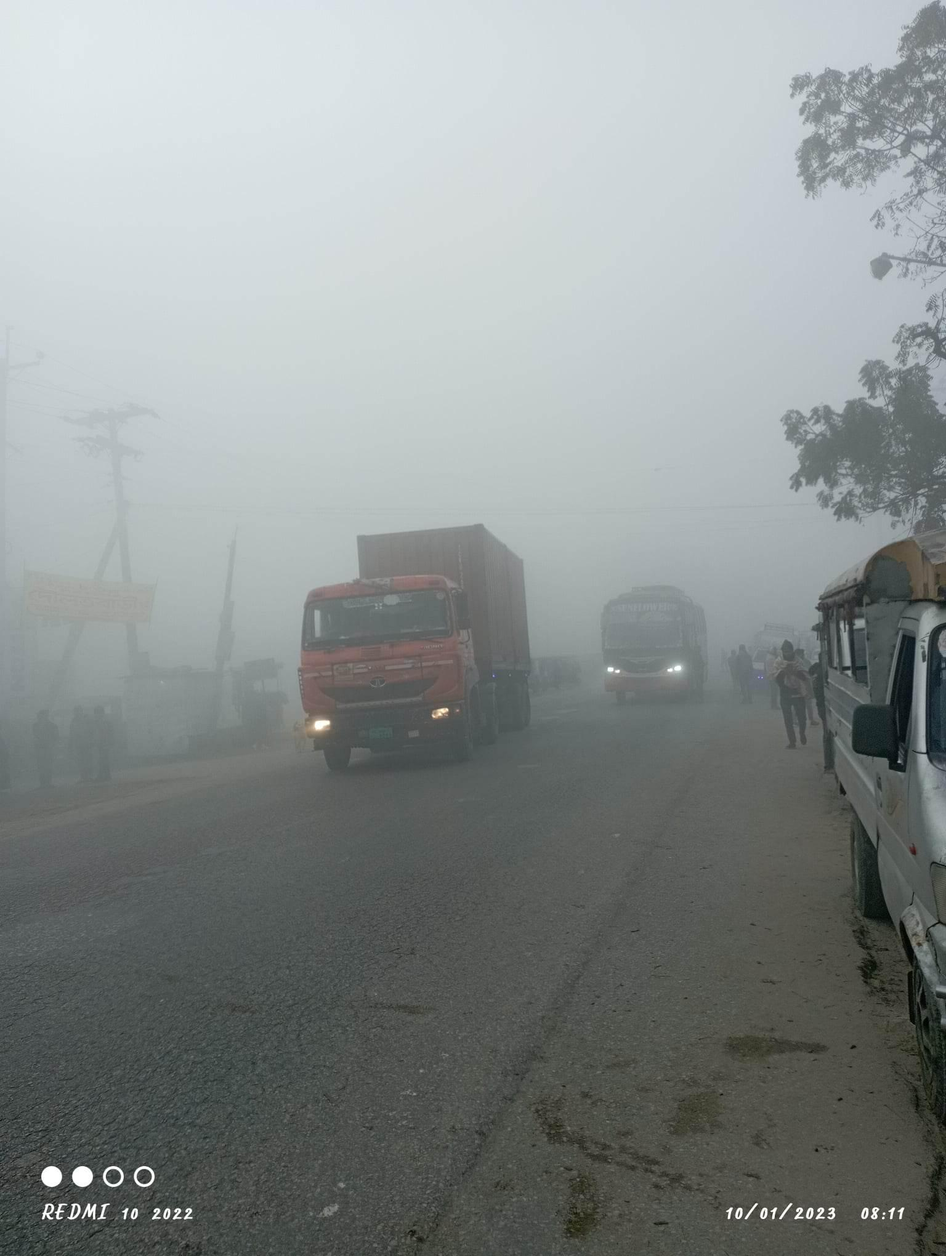Bus: (580, 562, 724, 726)
Truck: (798, 517, 946, 1049), (273, 502, 541, 790)
